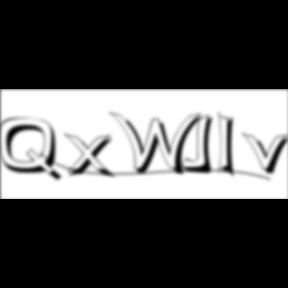I: (218, 110, 242, 182)
J: (180, 114, 220, 176)
Q: (0, 117, 66, 184)
W: (109, 110, 207, 178)
x: (64, 132, 119, 181)
